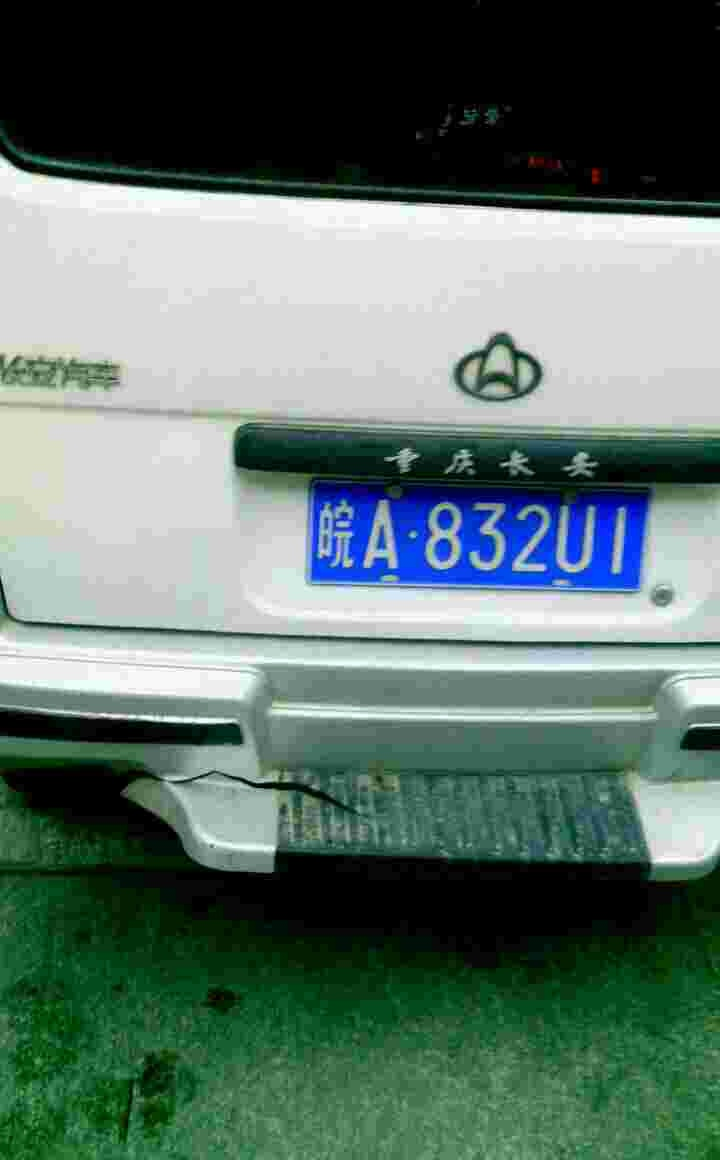license_plate: (297, 485, 650, 592)
